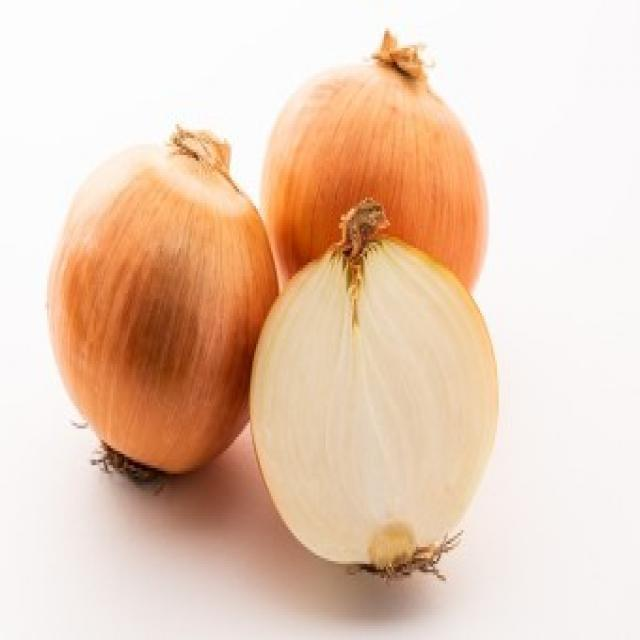Onion: (252, 195, 500, 581), (50, 128, 281, 497), (259, 29, 489, 293)
